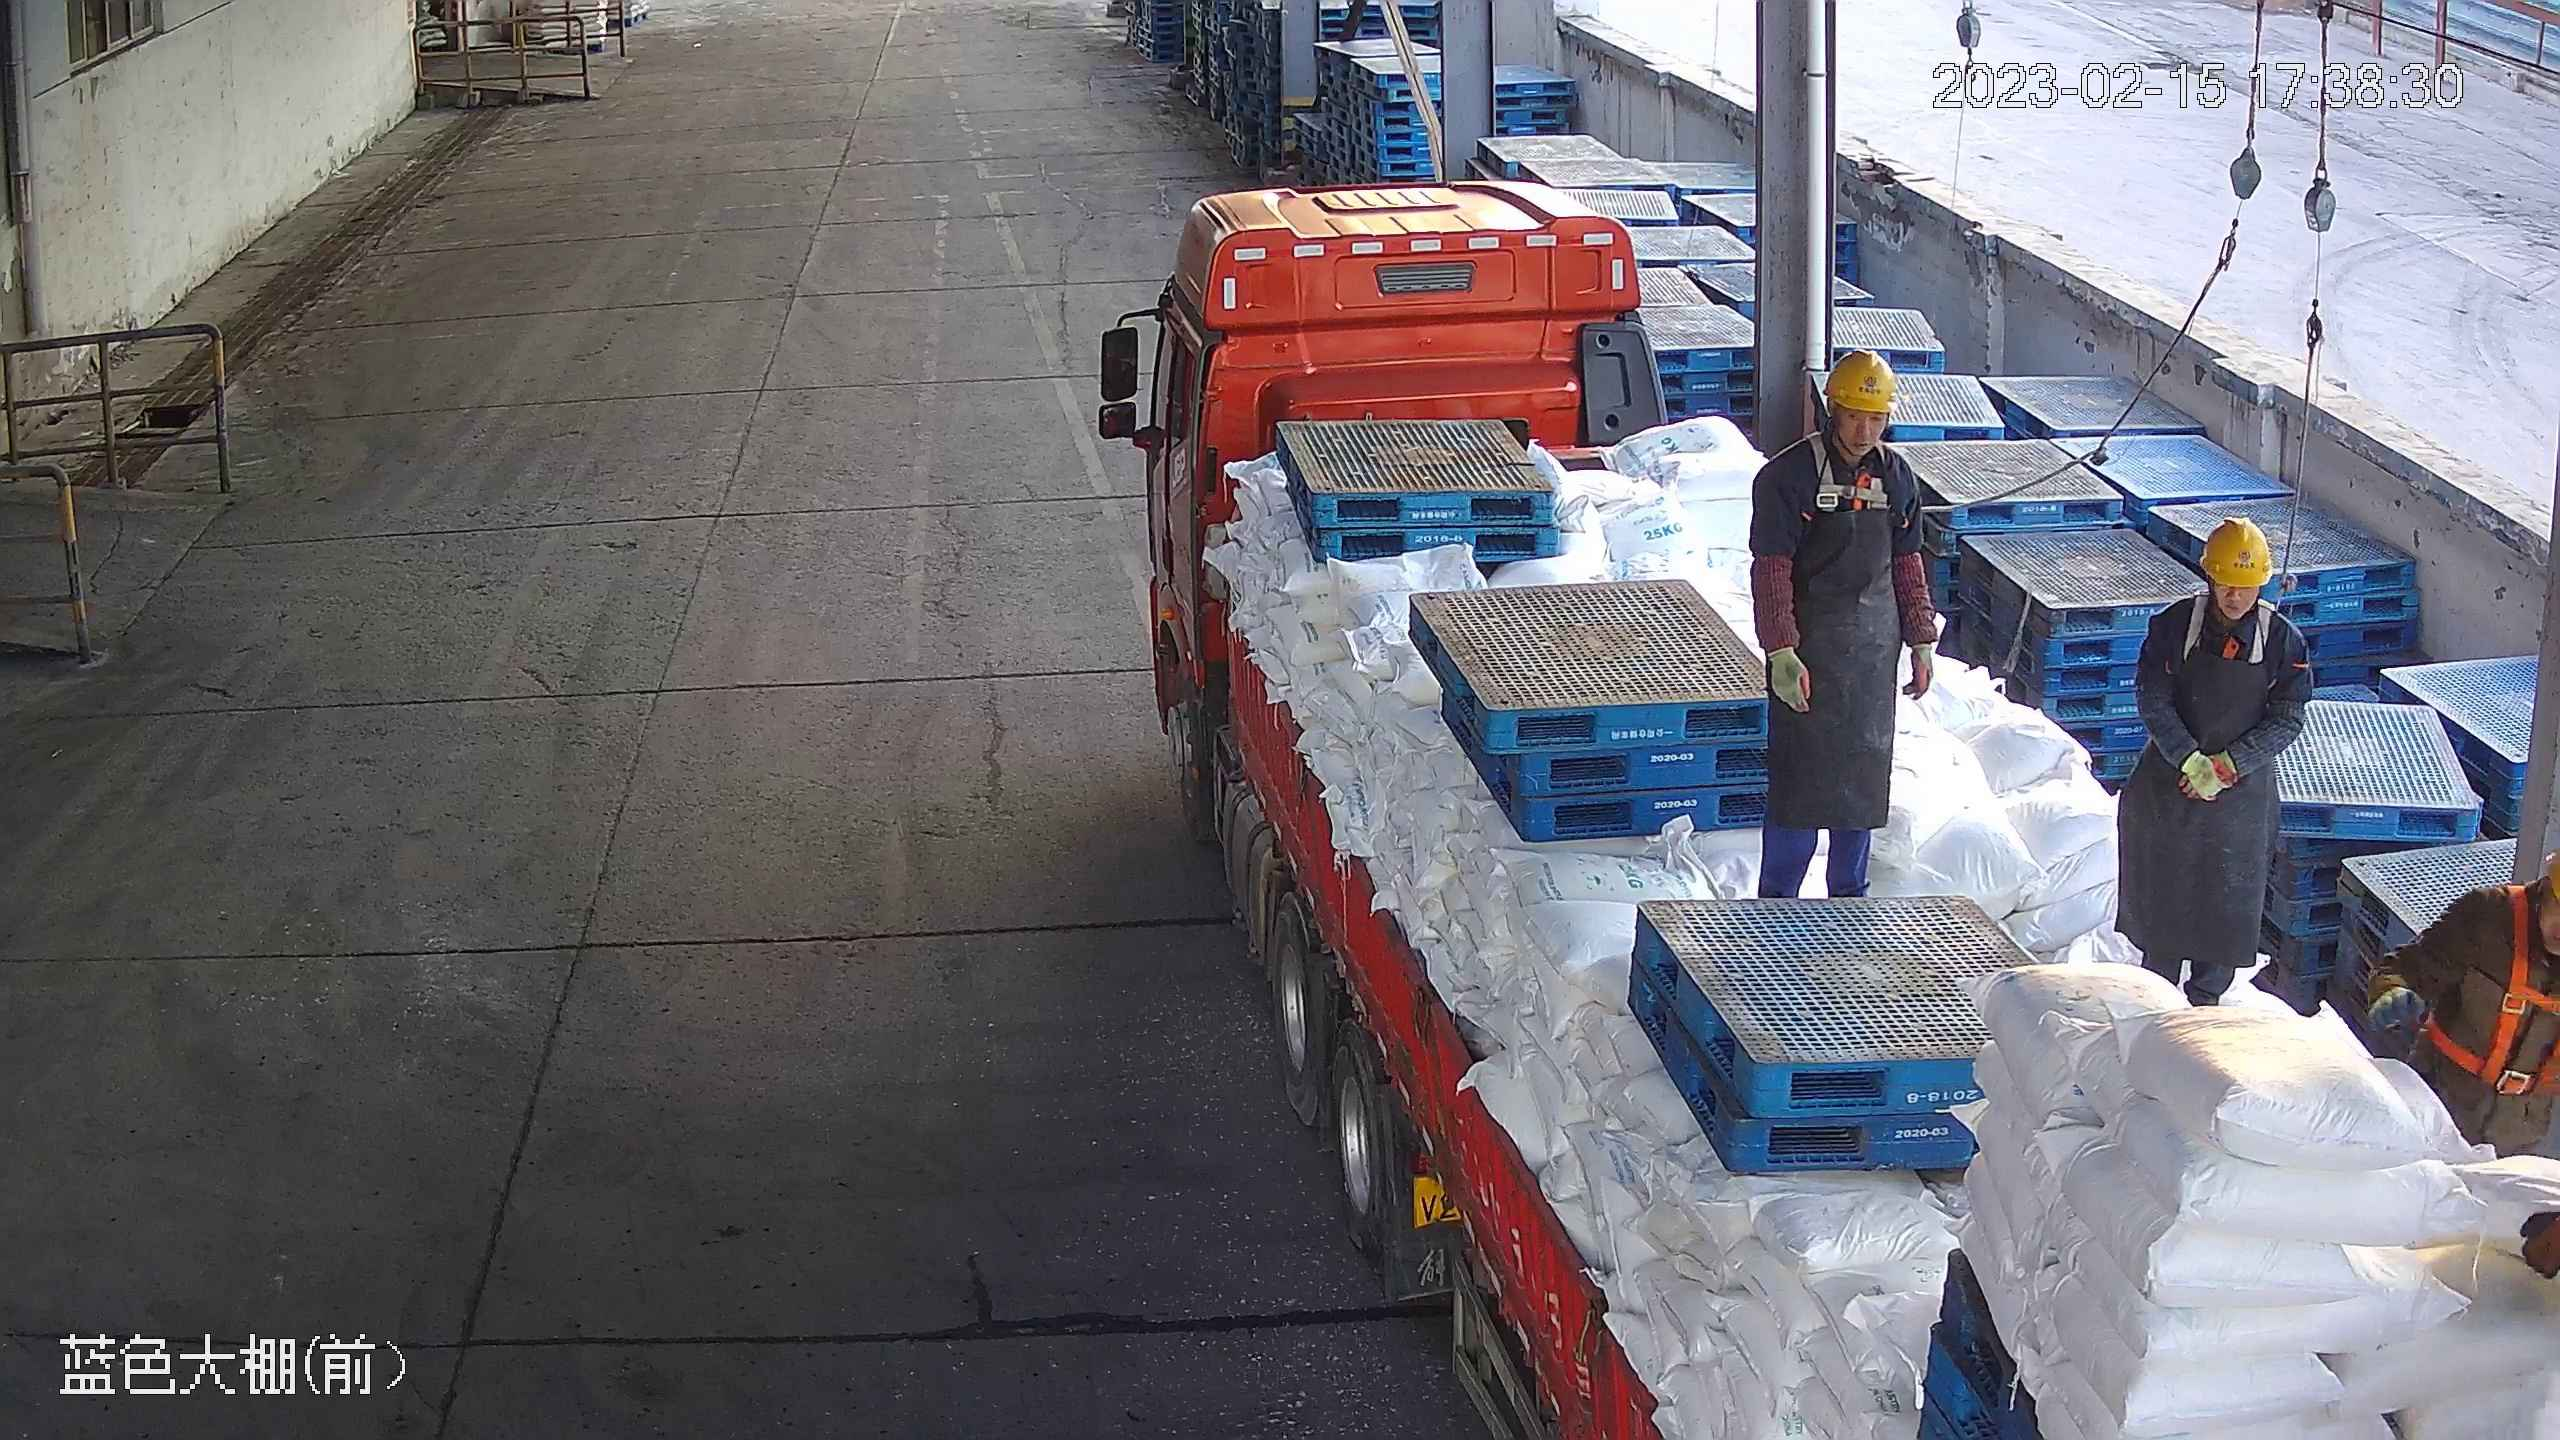belt: (2427, 895, 2558, 1090), (1798, 434, 1901, 518), (2190, 606, 2269, 656)
head: (1756, 346, 1920, 502), (2155, 518, 2295, 655)
helmet: (2200, 511, 2274, 585), (1823, 341, 1899, 411)
people: (1741, 344, 1955, 901), (2128, 523, 2320, 1015)
truck: (1093, 165, 2560, 1440)
